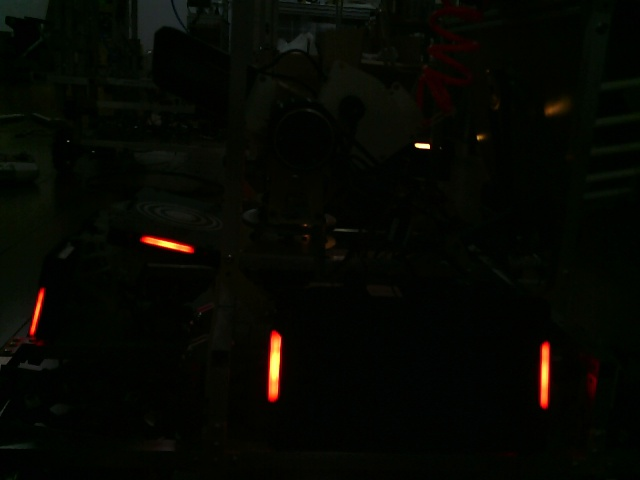lamp: (265, 330, 286, 406), (538, 340, 554, 415), (34, 286, 47, 346)
